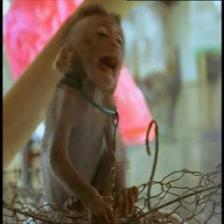monkey: (46, 1, 136, 99)
